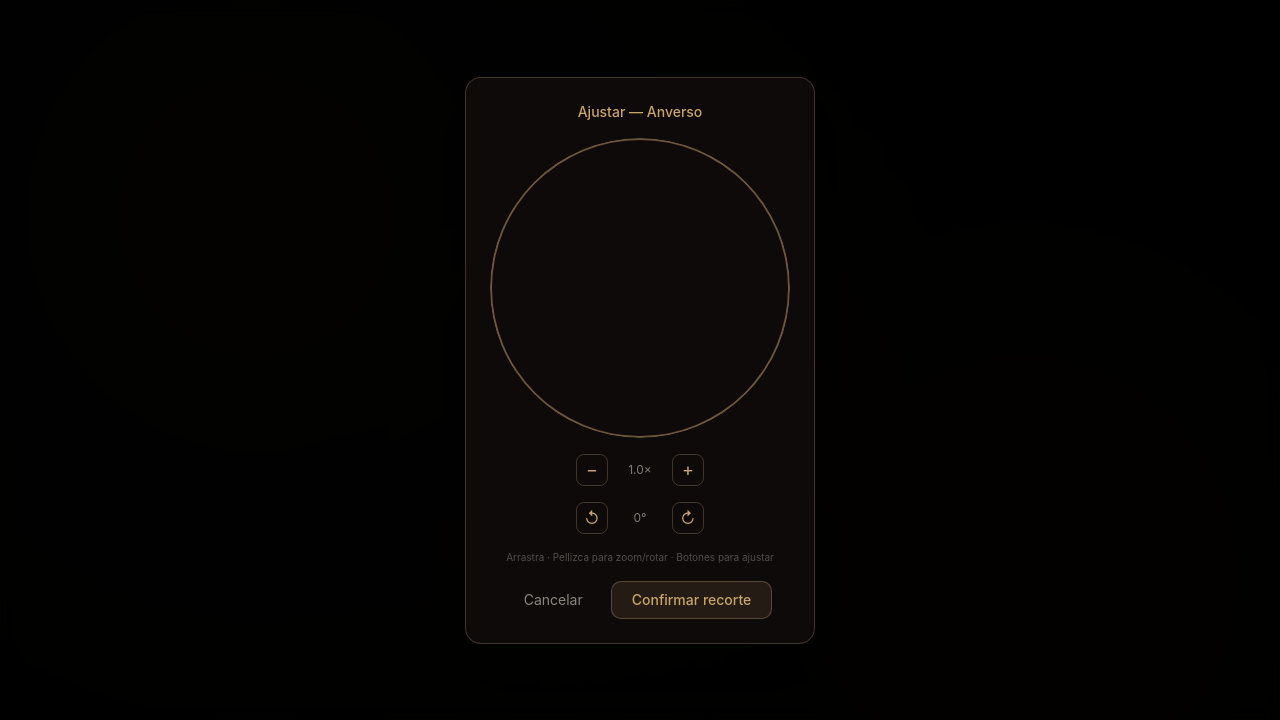
Test: ImageCropEditor › clicking − decreases zoom by 0.1
Click the button "+" at x=688, y=470, box x1=672 y1=454 x2=704 y2=486
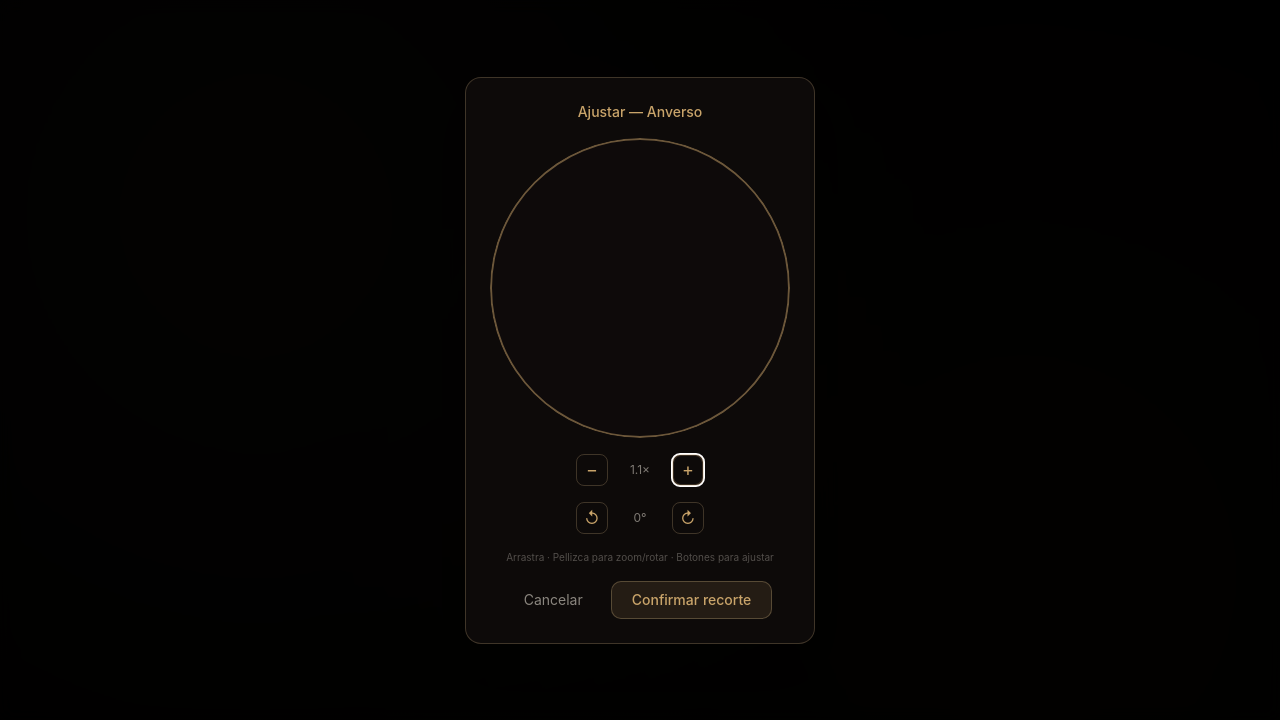
Click the button "+" at x=688, y=470, box x1=672 y1=454 x2=704 y2=486
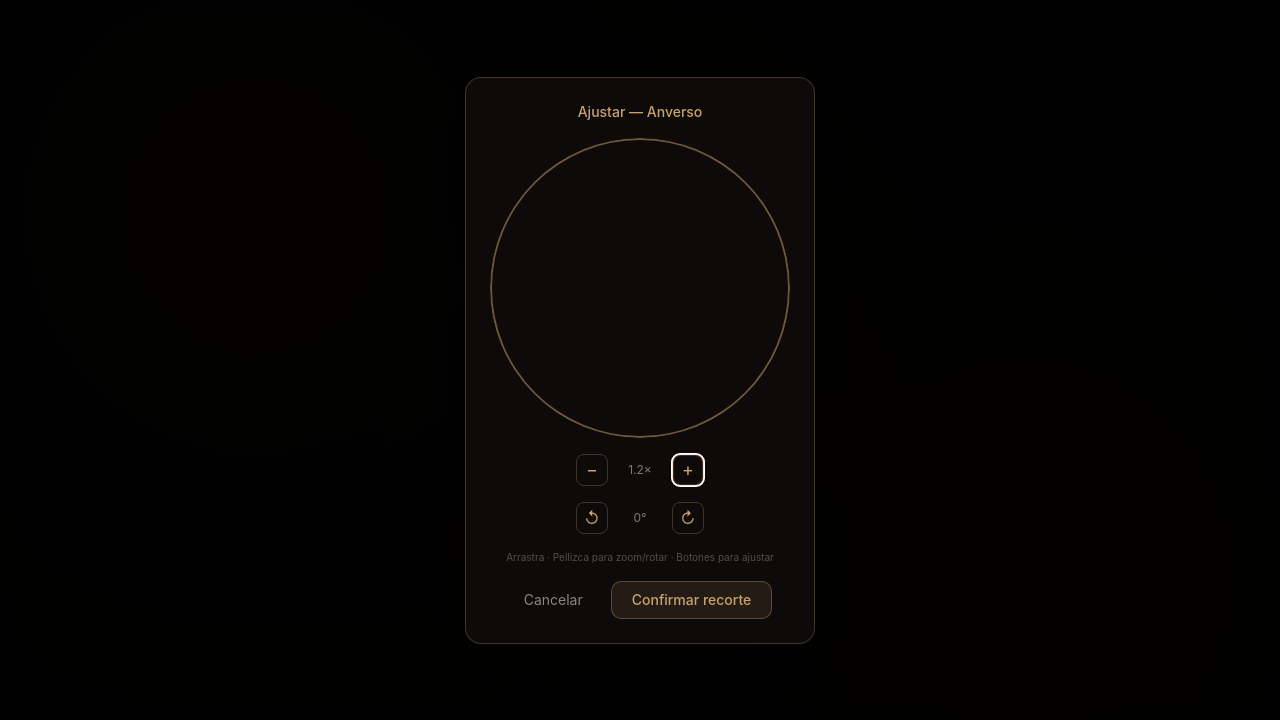
Click the button "−" at x=592, y=470, box x1=576 y1=454 x2=608 y2=486
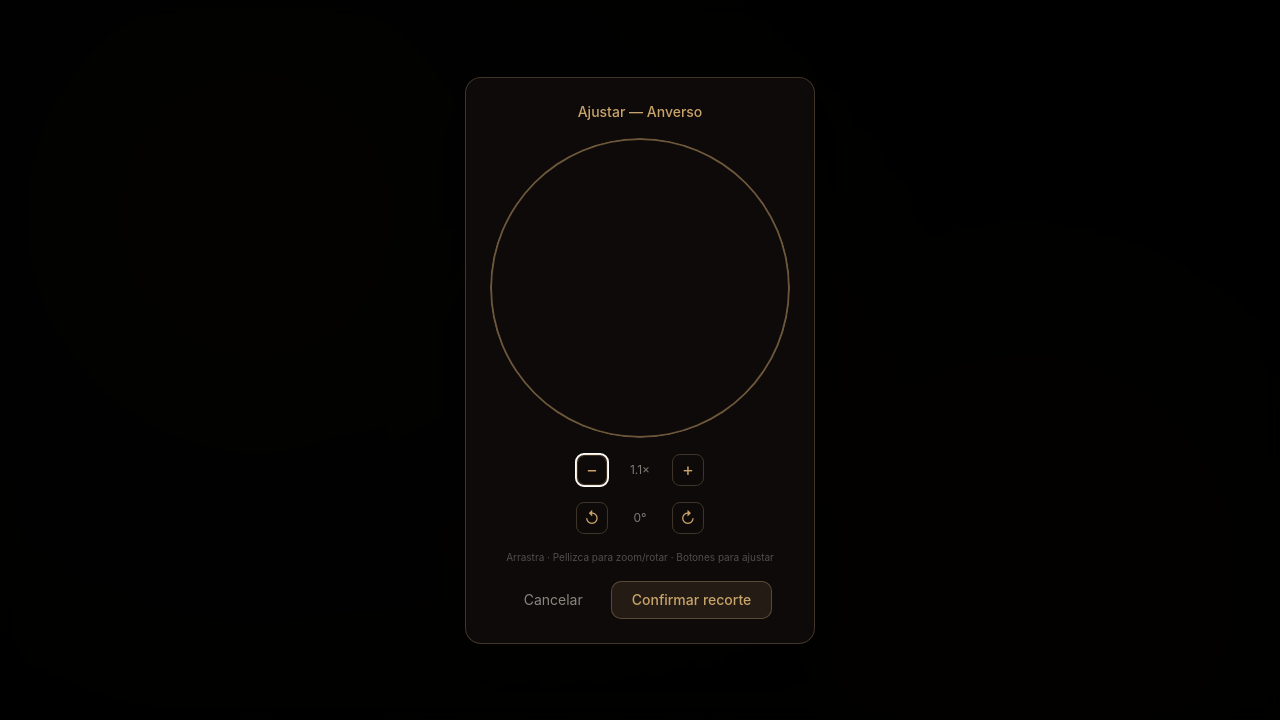
Expected: the text "1.1×" is shown, x1=630 y1=462 x2=650 y2=476
